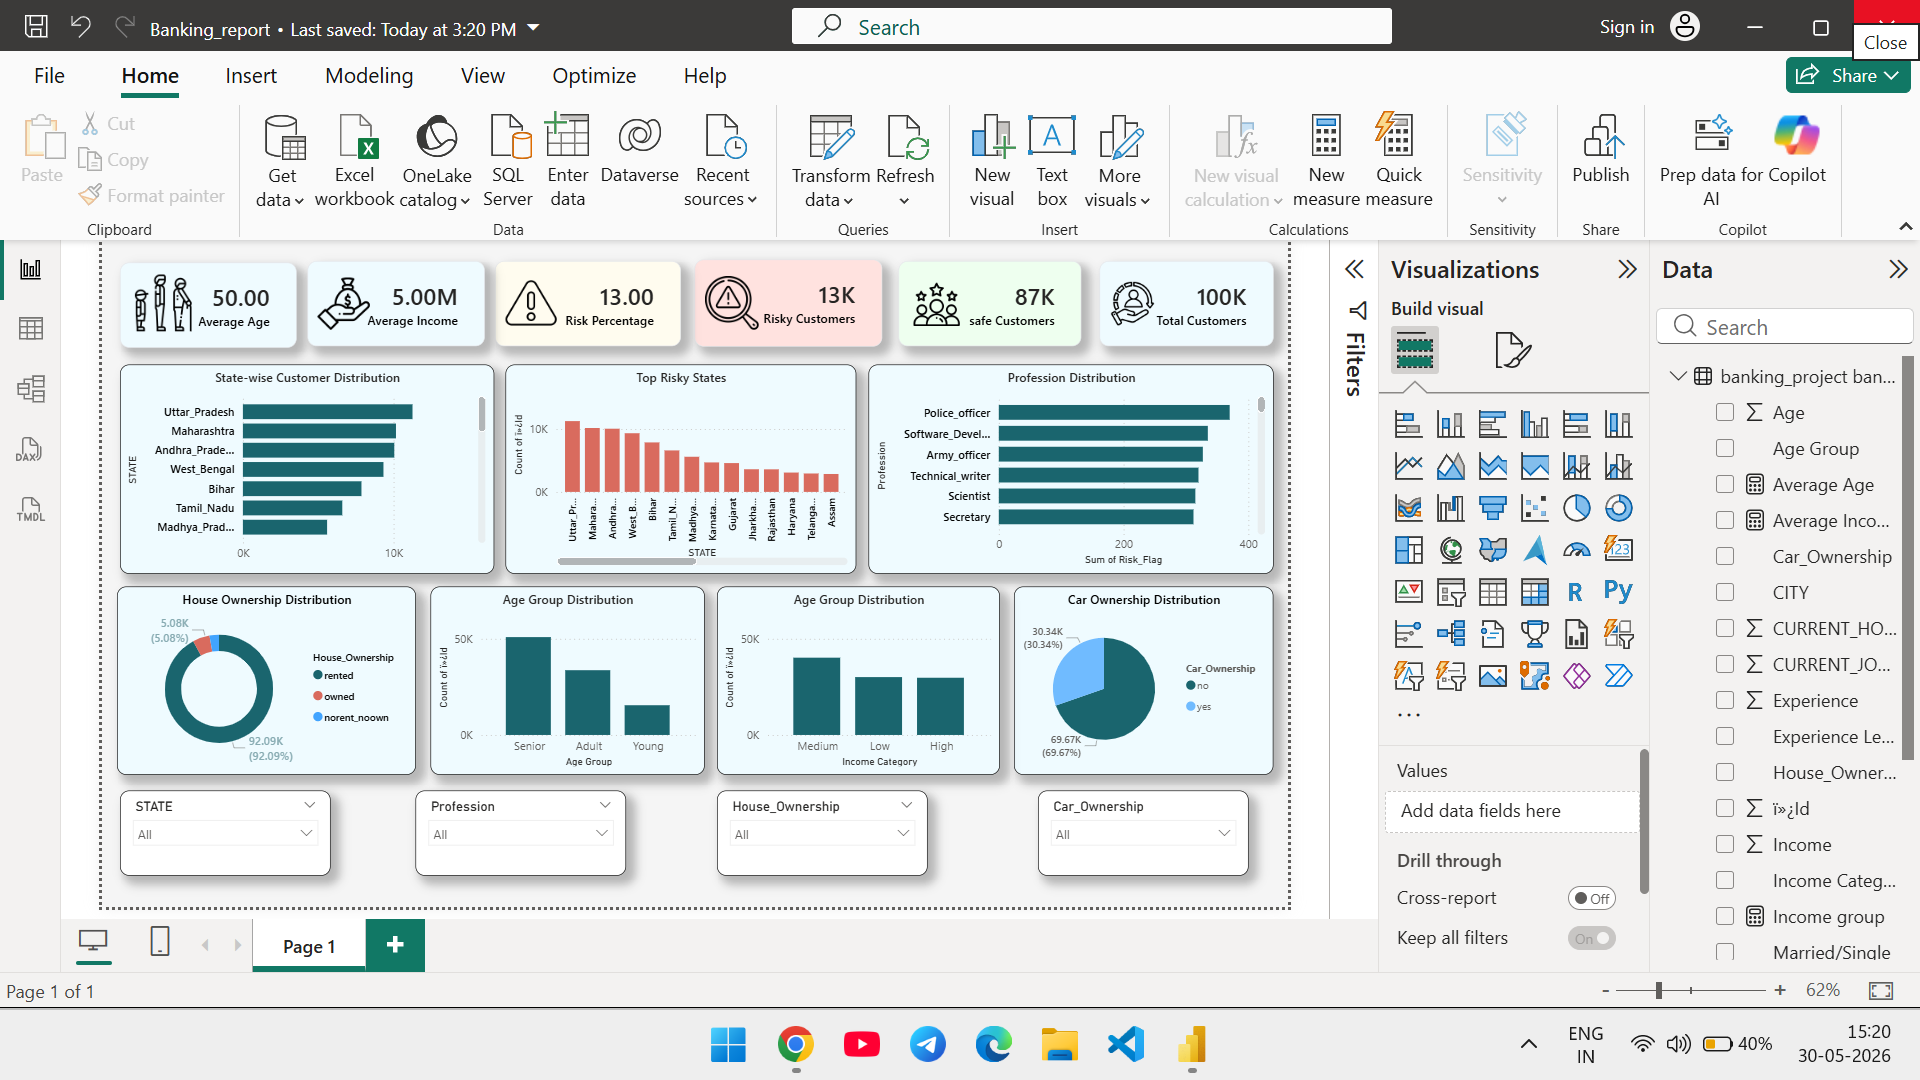

The dashboard page shown, as its layout file describes it:
{"tool":"powerbi","page":{"name":"Page 1","canvas":[1280,720],"ordinal":0},"visuals":[{"type":"cardVisual","fields":{"Data":["banking_project banking_data.Average Age"]},"box":[19.1,23.9,190.9,92.3],"z":0},{"type":"cardVisual","fields":{"Data":["banking_project banking_data.Risky Customers"]},"box":[639.6,21,202.4,93.9],"z":1},{"type":"cardVisual","fields":{"Data":["banking_project banking_data.Risk Percentage"]},"box":[424.2,22.7,200.8,92.3],"z":2},{"type":"cardVisual","fields":{"Data":["banking_project banking_data.Average Income"]},"box":[221.8,22.7,191.1,92.3],"z":3},{"type":"cardVisual","fields":{"Data":["banking_project banking_data.safe Customers"]},"box":[859.8,22.7,197.5,92.3],"z":4},{"type":"cardVisual","fields":{"Data":["banking_project banking_data.Total Customers"]},"box":[1076.8,22.7,187.8,92.3],"z":5},{"type":"clusteredBarChart","title":"State-wise Customer Distribution","fields":{"Category":["banking_project banking_data.STATE"],"Y":["CountNonNull(banking_project banking_data.ï»¿Id)"]},"box":[19.1,133.6,404,225.9],"z":6},{"type":"clusteredColumnChart","title":"Top Risky States","fields":{"Y":["CountNonNull(banking_project banking_data.ï»¿Id)"],"Category":["banking_project banking_data.STATE"]},"box":[435.8,133.6,378.6,225.9],"z":7},{"type":"barChart","title":"Profession Distribution","fields":{"Category":["banking_project banking_data.Profession"],"Y":["Sum(banking_project banking_data.Risk_Flag)"]},"box":[827.1,133.6,437.4,225.9],"z":8},{"type":"donutChart","title":"House Ownership Distribution","fields":{"Category":["banking_project banking_data.House_Ownership"],"Y":["CountNonNull(banking_project banking_data.ï»¿Id)"]},"box":[15.9,373.8,322.9,203.6],"z":9},{"type":"pieChart","title":"Car Ownership Distribution","fields":{"Category":["banking_project banking_data.Car_Ownership"],"Y":["CountNonNull(banking_project banking_data.ï»¿Id)"]},"box":[984.6,373.8,279.9,203.6],"z":10},{"type":"columnChart","title":"Age Group Distribution","fields":{"Y":["CountNonNull(banking_project banking_data.ï»¿Id)"],"Category":["banking_project banking_data.Age Group"]},"box":[354.7,373.8,295.9,203.6],"z":11},{"type":"columnChart","title":"Age Group Distribution","fields":{"Y":["CountNonNull(banking_project banking_data.ï»¿Id)"],"Category":["banking_project banking_data.Income Category"]},"box":[663.3,373.8,305.4,203.6],"z":12},{"type":"slicer","fields":{"Values":["banking_project banking_data.STATE"]},"box":[19.1,594.9,227.5,92.3],"z":13},{"type":"slicer","fields":{"Values":["banking_project banking_data.Profession"]},"box":[338.8,594.9,227.5,92.3],"z":14},{"type":"slicer","fields":{"Values":["banking_project banking_data.House_Ownership"]},"box":[663.3,594.9,227.5,92.3],"z":15},{"type":"slicer","fields":{"Values":["banking_project banking_data.Car_Ownership"]},"box":[1010,594.9,227.5,92.3],"z":16},{"type":"image","box":[16.2,37.2,100.4,61.5],"z":17},{"type":"image","box":[221.8,40.5,77.7,56.7],"z":18},{"type":"image","box":[435.6,37.2,55.1,61.5],"z":19},{"type":"image","box":[650.9,38.9,58.3,58.3],"z":20},{"type":"image","box":[876,40.5,50.2,58.3],"z":21},{"type":"image","box":[1088.1,35.6,48.6,66.4],"z":22}]}

Visuals, with their boxes on the page's 1280x720 design canvas (x1, y1, x2, y2). These are canvas units, not pixel positions in the 1920x1080 screenshot, which may show the page scaled, cropped or inside an application window:
cardVisual - banking_project banking_data.Average Age: rect(19, 24, 210, 116)
cardVisual - banking_project banking_data.Risky Customers: rect(640, 21, 842, 115)
cardVisual - banking_project banking_data.Risk Percentage: rect(424, 23, 625, 115)
cardVisual - banking_project banking_data.Average Income: rect(222, 23, 413, 115)
cardVisual - banking_project banking_data.safe Customers: rect(860, 23, 1057, 115)
cardVisual - banking_project banking_data.Total Customers: rect(1077, 23, 1265, 115)
"State-wise Customer Distribution" clusteredBarChart: rect(19, 134, 423, 360)
"Top Risky States" clusteredColumnChart: rect(436, 134, 814, 360)
"Profession Distribution" barChart: rect(827, 134, 1264, 360)
"House Ownership Distribution" donutChart: rect(16, 374, 339, 577)
"Car Ownership Distribution" pieChart: rect(985, 374, 1264, 577)
"Age Group Distribution" columnChart: rect(355, 374, 651, 577)
"Age Group Distribution" columnChart: rect(663, 374, 969, 577)
slicer - banking_project banking_data.STATE: rect(19, 595, 247, 687)
slicer - banking_project banking_data.Profession: rect(339, 595, 566, 687)
slicer - banking_project banking_data.House_Ownership: rect(663, 595, 891, 687)
slicer - banking_project banking_data.Car_Ownership: rect(1010, 595, 1238, 687)
image: rect(16, 37, 117, 99)
image: rect(222, 40, 300, 97)
image: rect(436, 37, 491, 99)
image: rect(651, 39, 709, 97)
image: rect(876, 40, 926, 99)
image: rect(1088, 36, 1137, 102)
